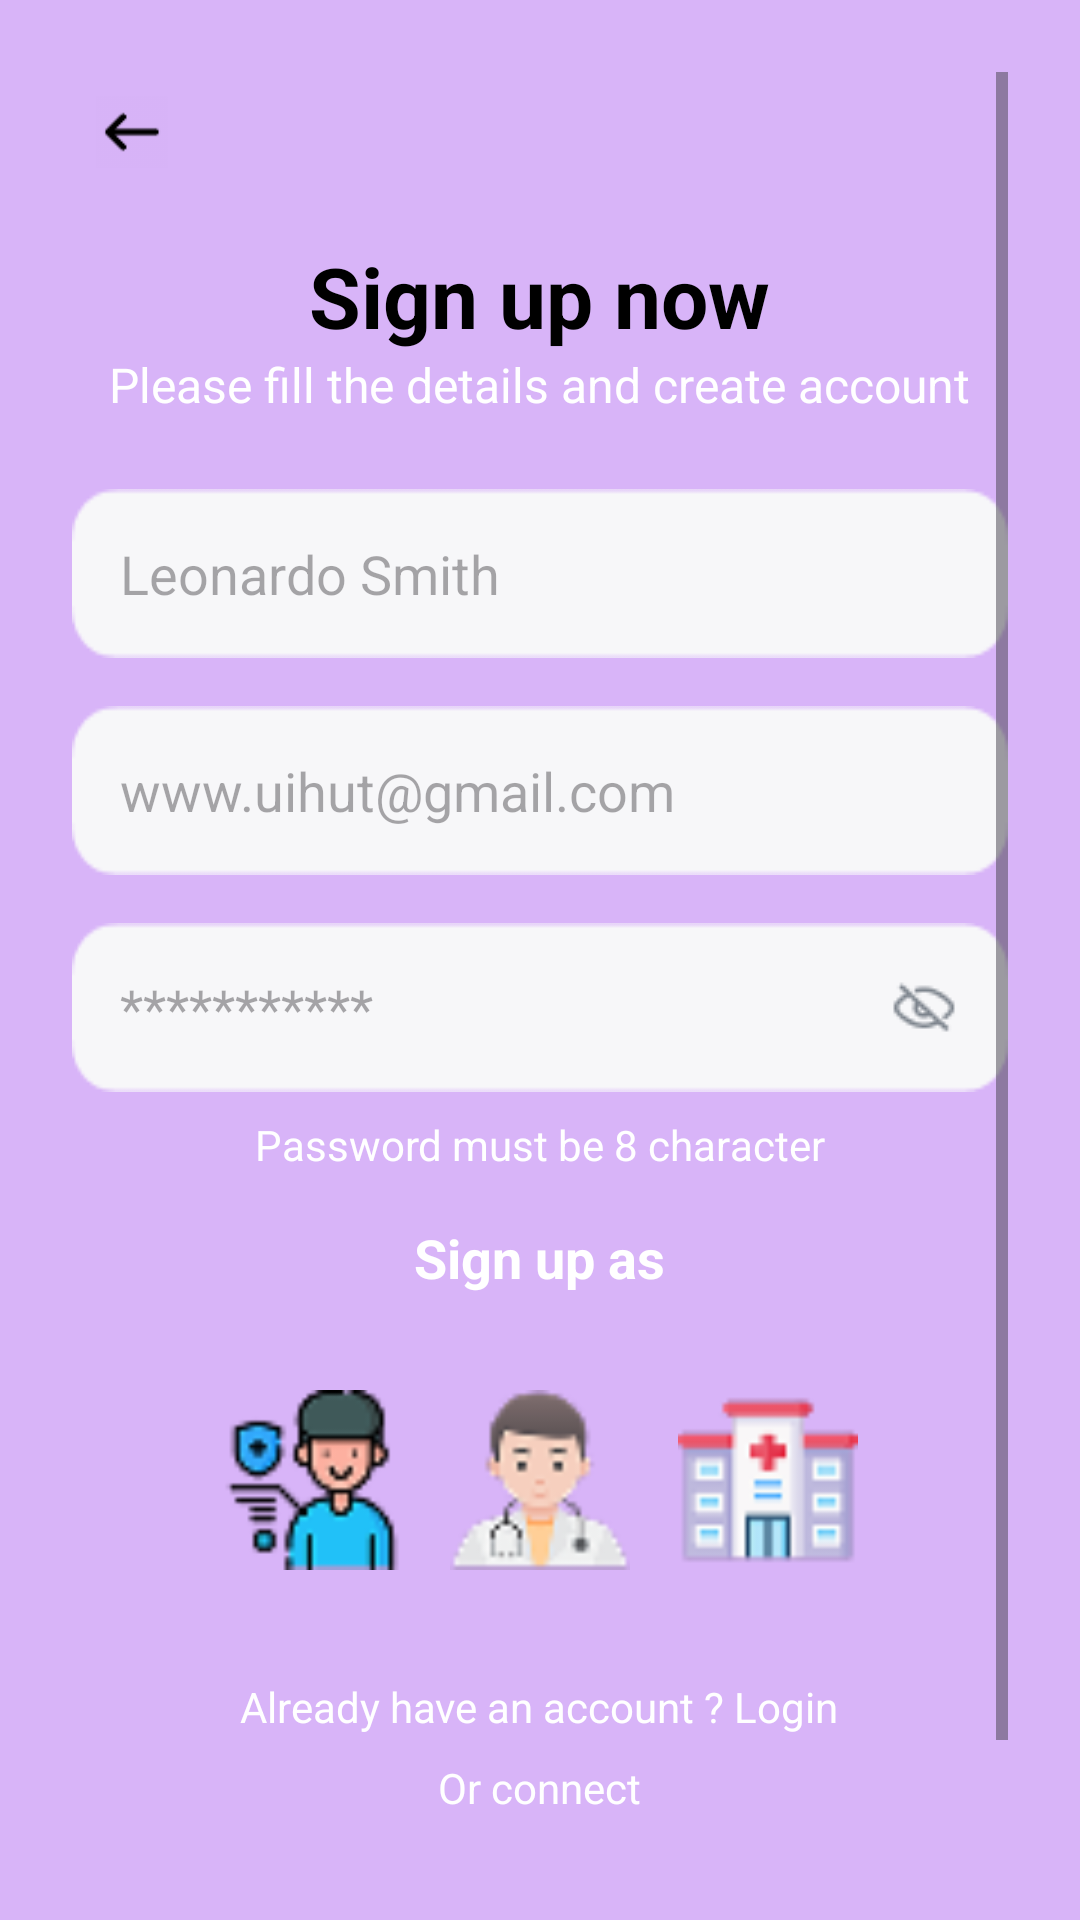

Screen size 1080px x 1920px. Icon name, then its center in pixels as (x,y):
backarrow: (132,132)
